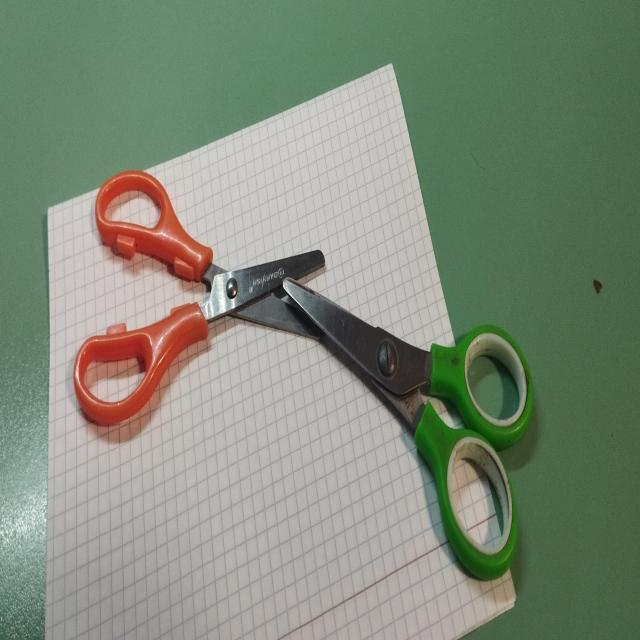scissors: (278, 256, 538, 584), (68, 158, 330, 432)
